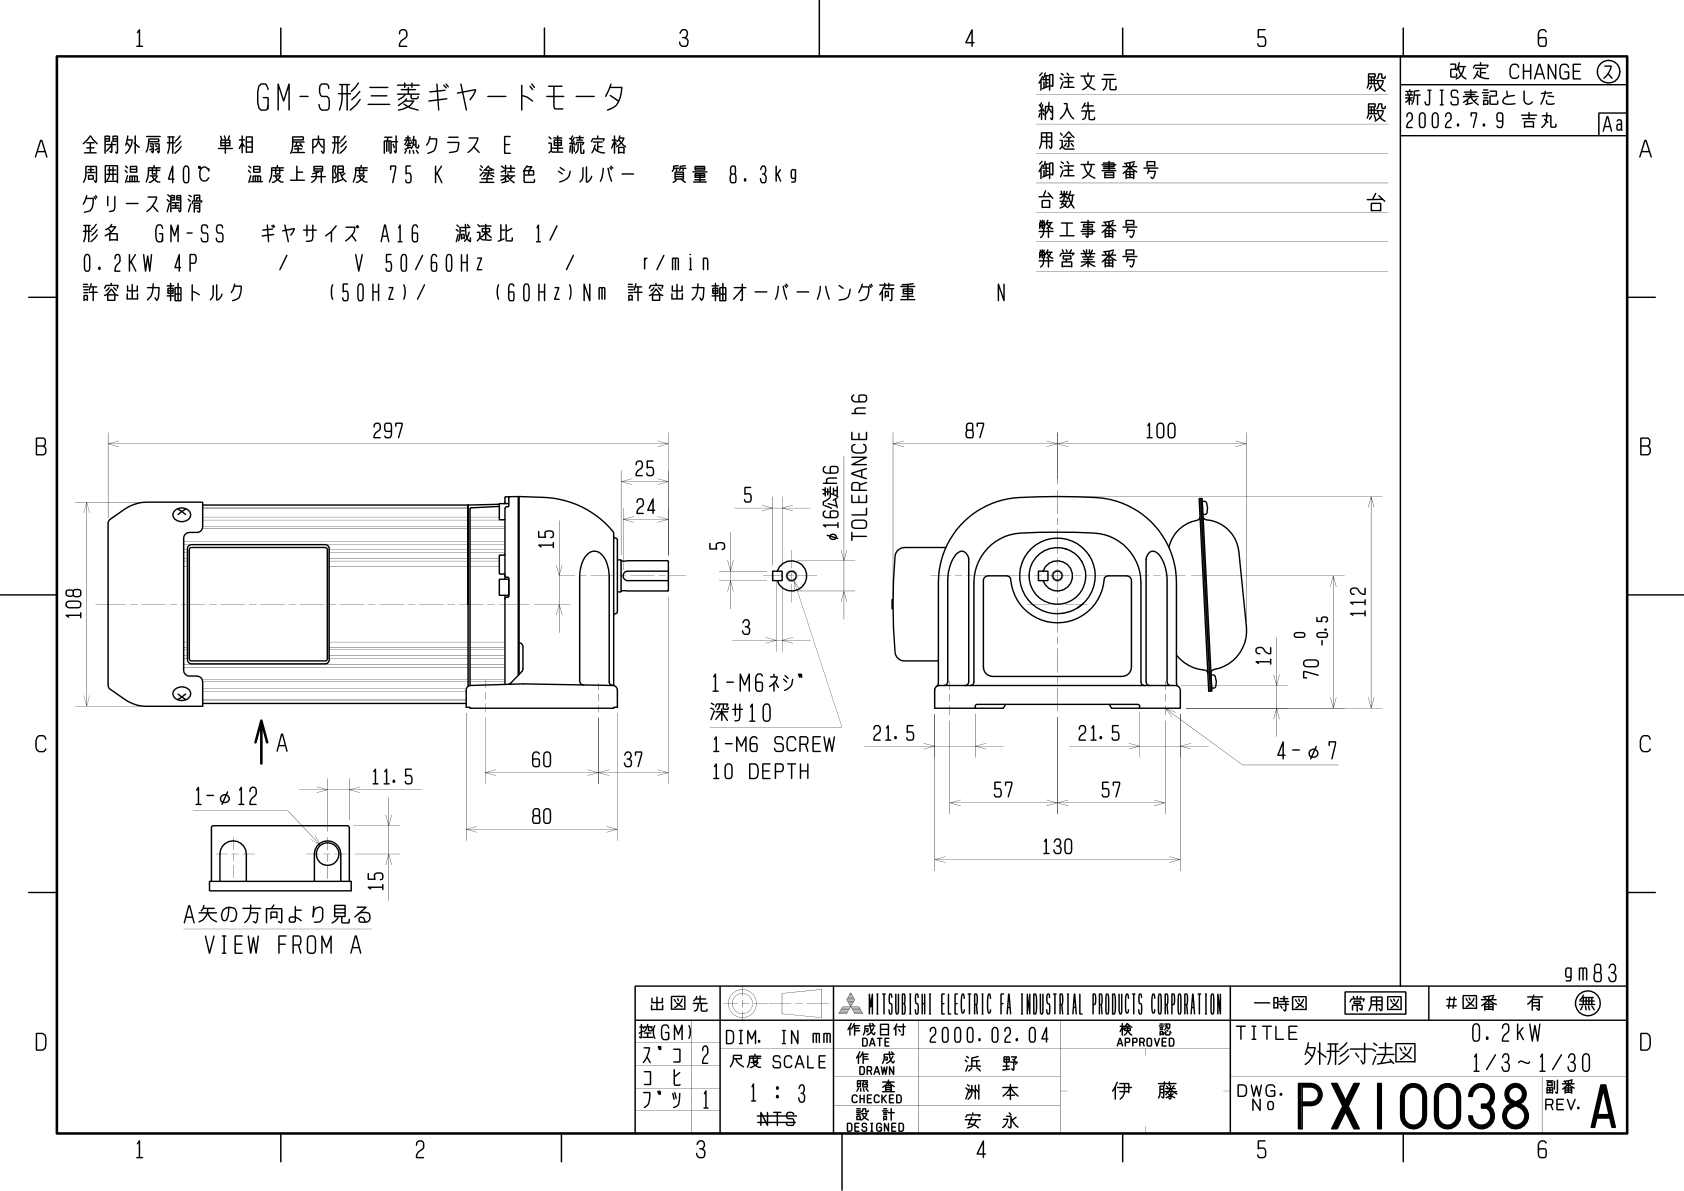GM_S_屋内＿三相_脚: (63, 380, 1389, 990)
